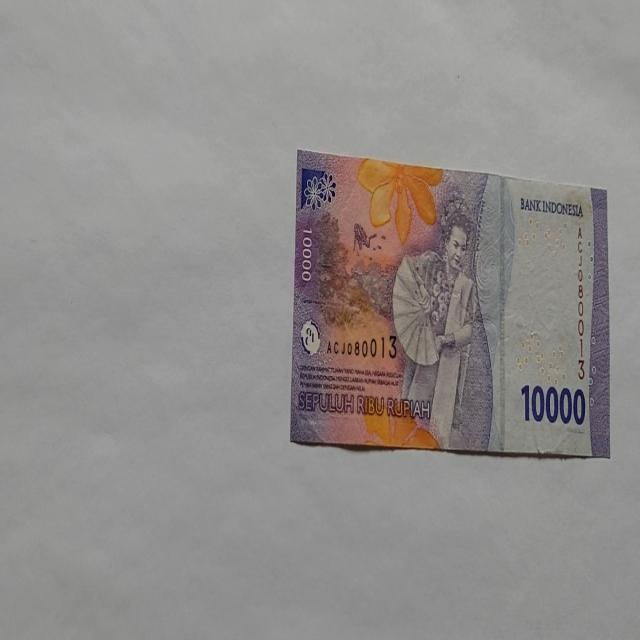sepuluh ribu rupiah: (290, 148, 610, 457)
